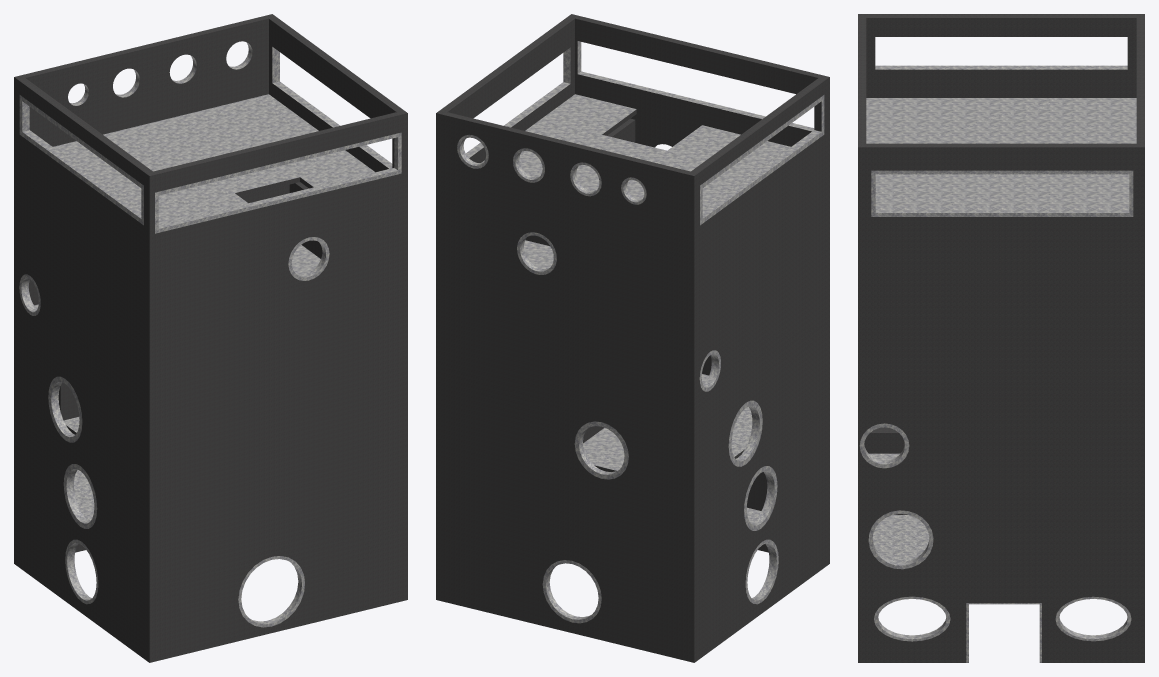
The model's file is BUILD 5.dae.
The picture shows the model from 3 angles, left to right: view 1: azimuth 30°, elevation 25°; view 2: azimuth 150°, elevation 25°; view 3: azimuth 270°, elevation 25°; orthographic projection. The views are drawn at different scales.
Parts seen in each view (by area): view 1: SketchUp, SketchUp_038, SketchUp_048, SketchUp_049, SketchUp_052, SketchUp_050, SketchUp_053, SketchUp_008, SketchUp_015, SketchUp_024, SketchUp_033; view 2: SketchUp, SketchUp_038, SketchUp_054, SketchUp_049, SketchUp_052, SketchUp_050, SketchUp_053, SketchUp_027, SketchUp_006, SketchUp_033, SketchUp_024, SketchUp_018; view 3: SketchUp, SketchUp_038, SketchUp_047, SketchUp_015, SketchUp_050, SketchUp_033, SketchUp_053, SketchUp_013, SketchUp_002, SketchUp_022, SketchUp_003, SketchUp_001.
Boxes of the visible parts, bbox=[...] form: SketchUp: bbox=[14, 14, 407, 662]; SketchUp_038: bbox=[53, 94, 374, 224]; SketchUp_048: bbox=[155, 132, 401, 233]; SketchUp_049: bbox=[19, 95, 143, 225]; SketchUp_052: bbox=[158, 137, 397, 228]; SketchUp_050: bbox=[22, 101, 141, 218]; SketchUp_053: bbox=[272, 47, 392, 168]; SketchUp_008: bbox=[238, 556, 304, 627]; SketchUp_015: bbox=[74, 470, 94, 520]; SketchUp_024: bbox=[48, 376, 82, 442]; SketchUp_033: bbox=[291, 245, 320, 274]; SketchUp: bbox=[436, 14, 829, 662]; SketchUp_038: bbox=[481, 94, 790, 211]; SketchUp_054: bbox=[583, 407, 752, 470]; SketchUp_049: bbox=[700, 95, 824, 225]; SketchUp_052: bbox=[577, 41, 814, 131]; SketchUp_050: bbox=[702, 130, 821, 218]; SketchUp_053: bbox=[466, 47, 570, 157]; SketchUp_027: bbox=[574, 421, 628, 479]; SketchUp_006: bbox=[542, 560, 601, 623]; SketchUp_033: bbox=[524, 240, 553, 268]; SketchUp_024: bbox=[728, 400, 762, 466]; SketchUp_018: bbox=[744, 466, 777, 530]; SketchUp: bbox=[858, 14, 1144, 662]; SketchUp_038: bbox=[866, 98, 1136, 209]; SketchUp_047: bbox=[871, 170, 1133, 216]; SketchUp_015: bbox=[872, 515, 929, 561]; SketchUp_050: bbox=[875, 65, 1127, 69]; SketchUp_033: bbox=[875, 174, 939, 191]; SketchUp_053: bbox=[875, 209, 1129, 212]; SketchUp_013: bbox=[868, 510, 933, 569]; SketchUp_002: bbox=[874, 596, 950, 641]; SketchUp_022: bbox=[859, 423, 909, 468]; SketchUp_003: bbox=[1055, 596, 1131, 641]; SketchUp_001: bbox=[966, 603, 1041, 662].
Size of the model in its own units: 15.89 by 14.43 by 28.61.
